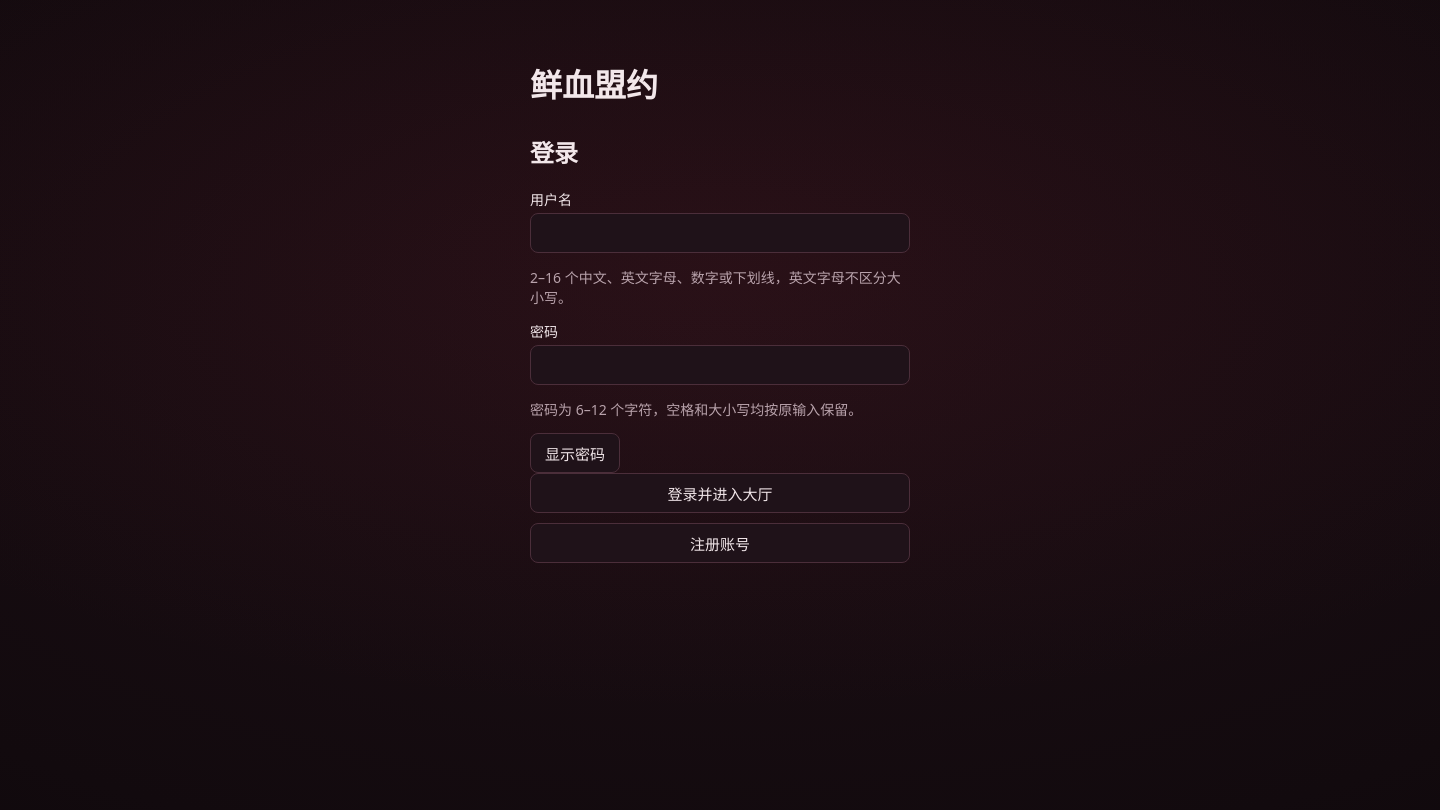
Scenario: 登录表单支持自动填充和显隐，切换注册再返回登录清除密码且不带入身份
The image size is (1440, 810).
Check: the heading "登录" is shown, box [530,141,578,167]
Type "Alice" into the field labelled "用户名" at (720, 233), box [530,213,910,253]
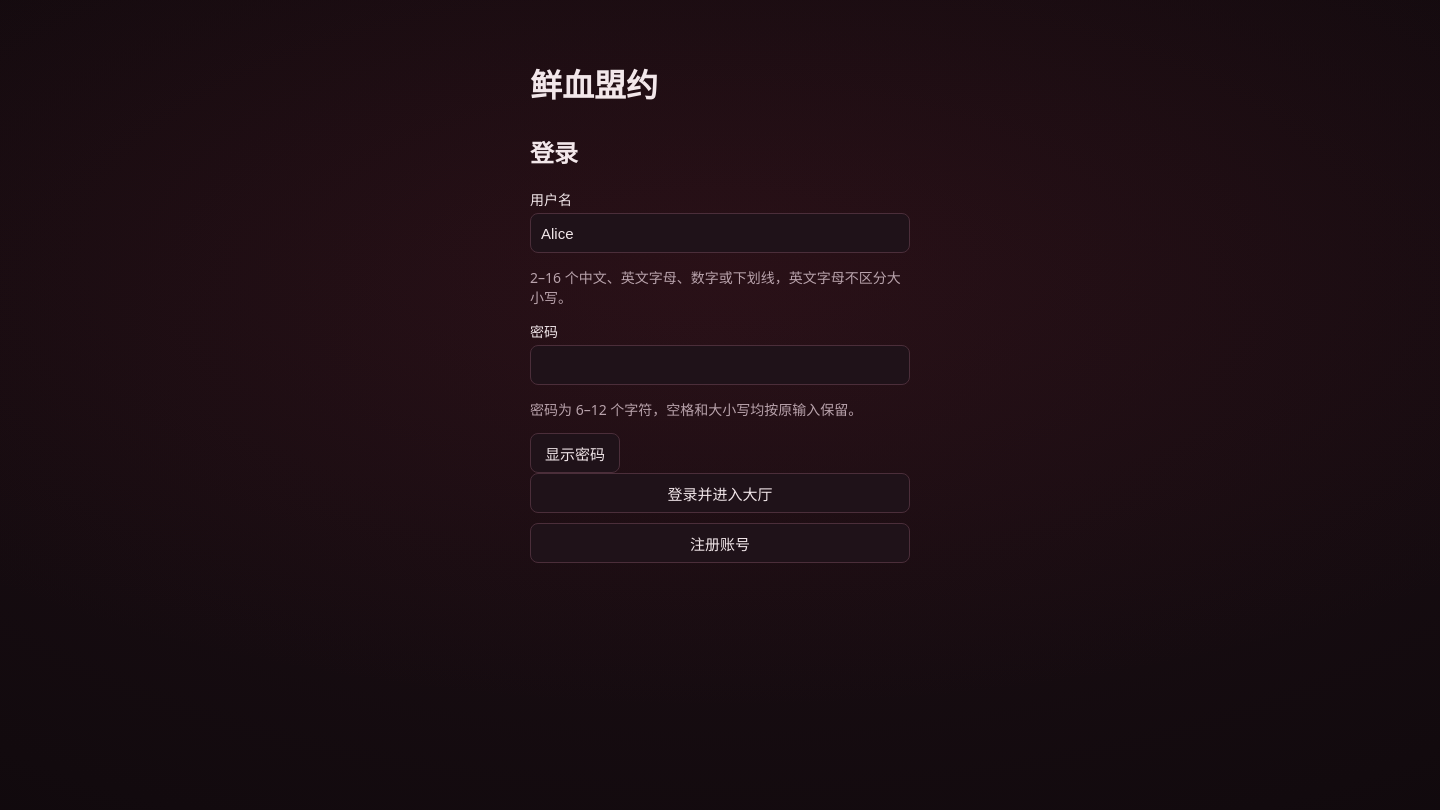
Type " Ab12 " into the password field labelled "密码" at (720, 365), box [530,345,910,385]
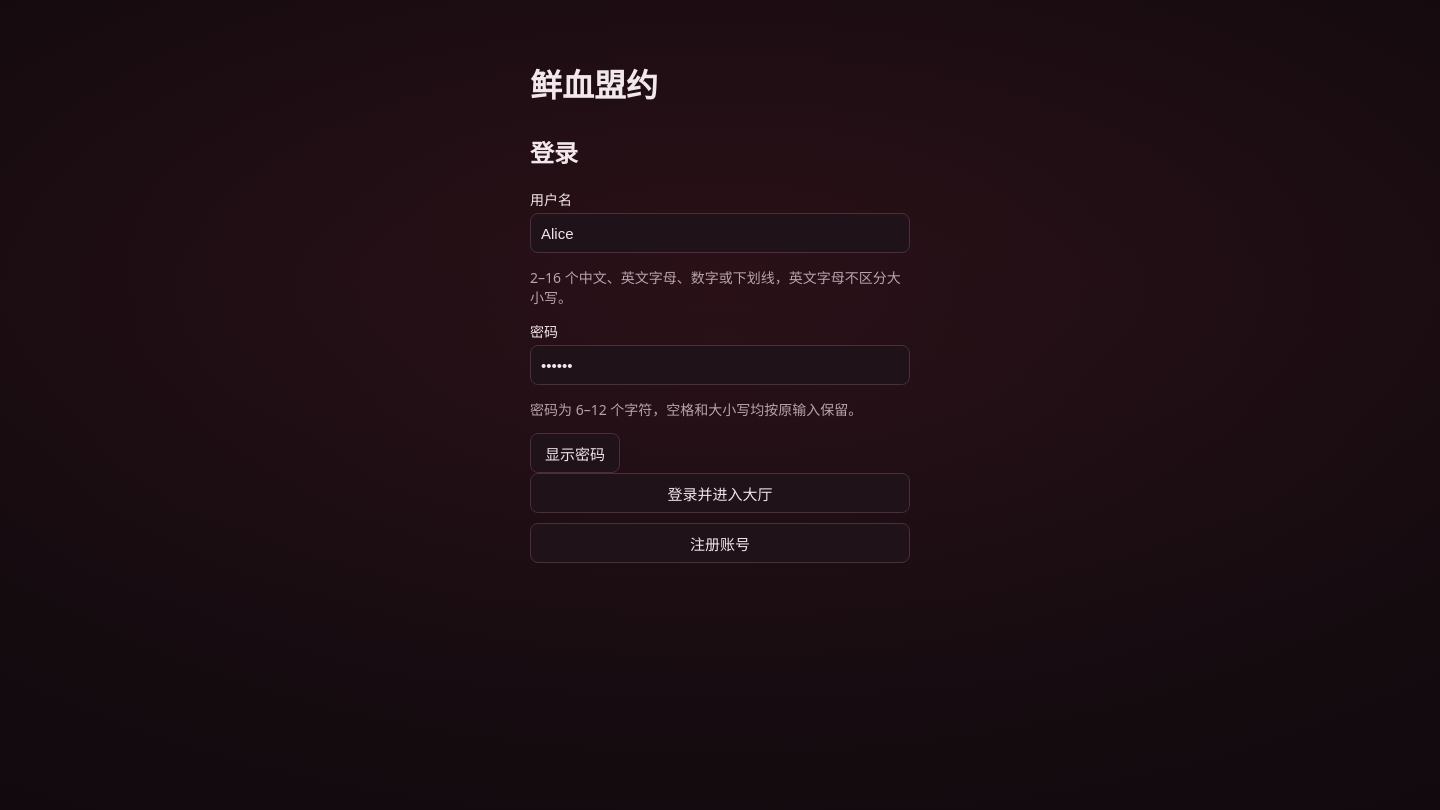
Click the button "显示密码" at (575, 453), box [530,433,620,473]
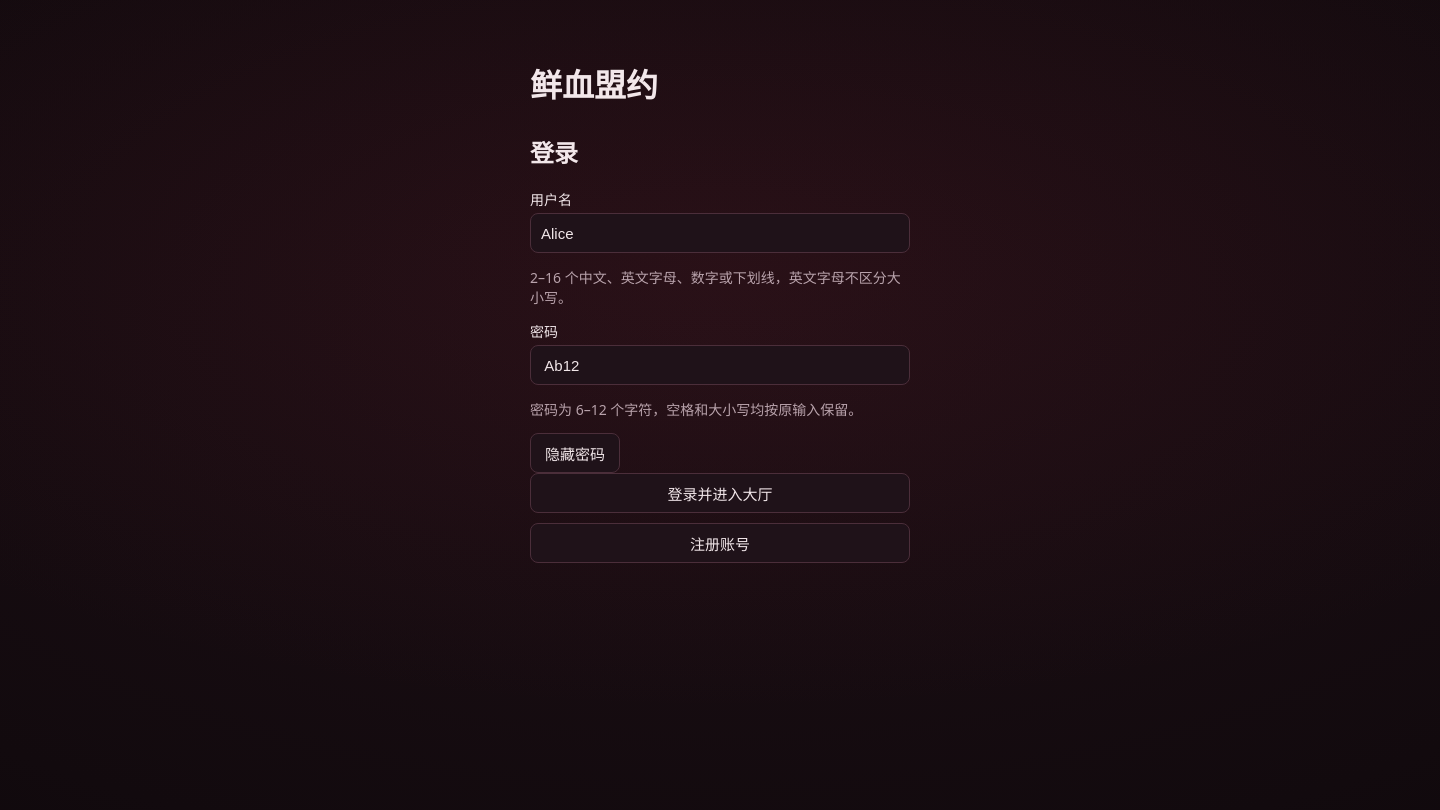
Check: the field labelled "密码" shows its text, box [530,345,910,385]
Click the button "注册账号" at (720, 543), box [530,523,910,563]
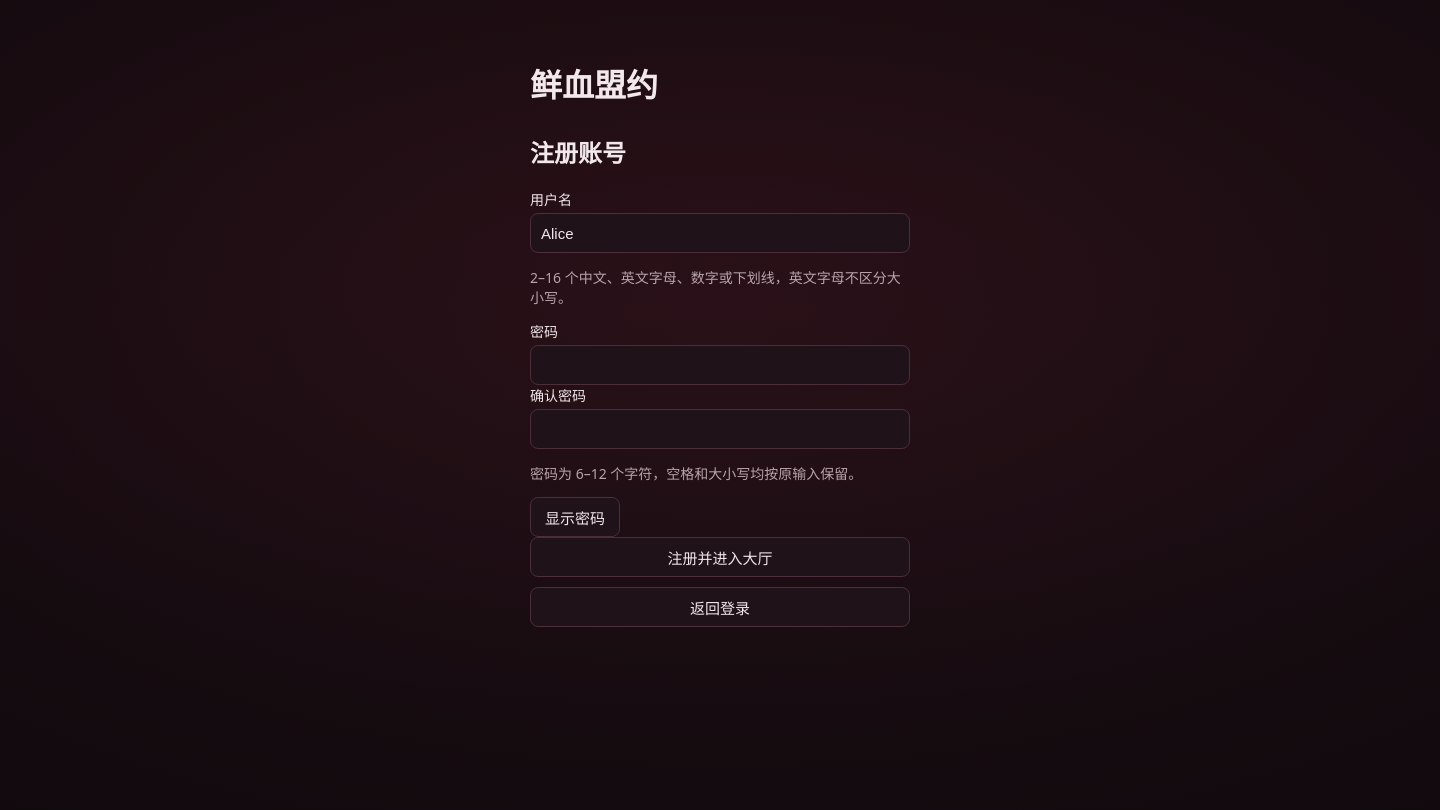
Check: the password field labelled "密码" is empty, box [530,345,910,385]
Type "other!" into the password field labelled "确认密码" at (720, 429), box [530,409,910,449]
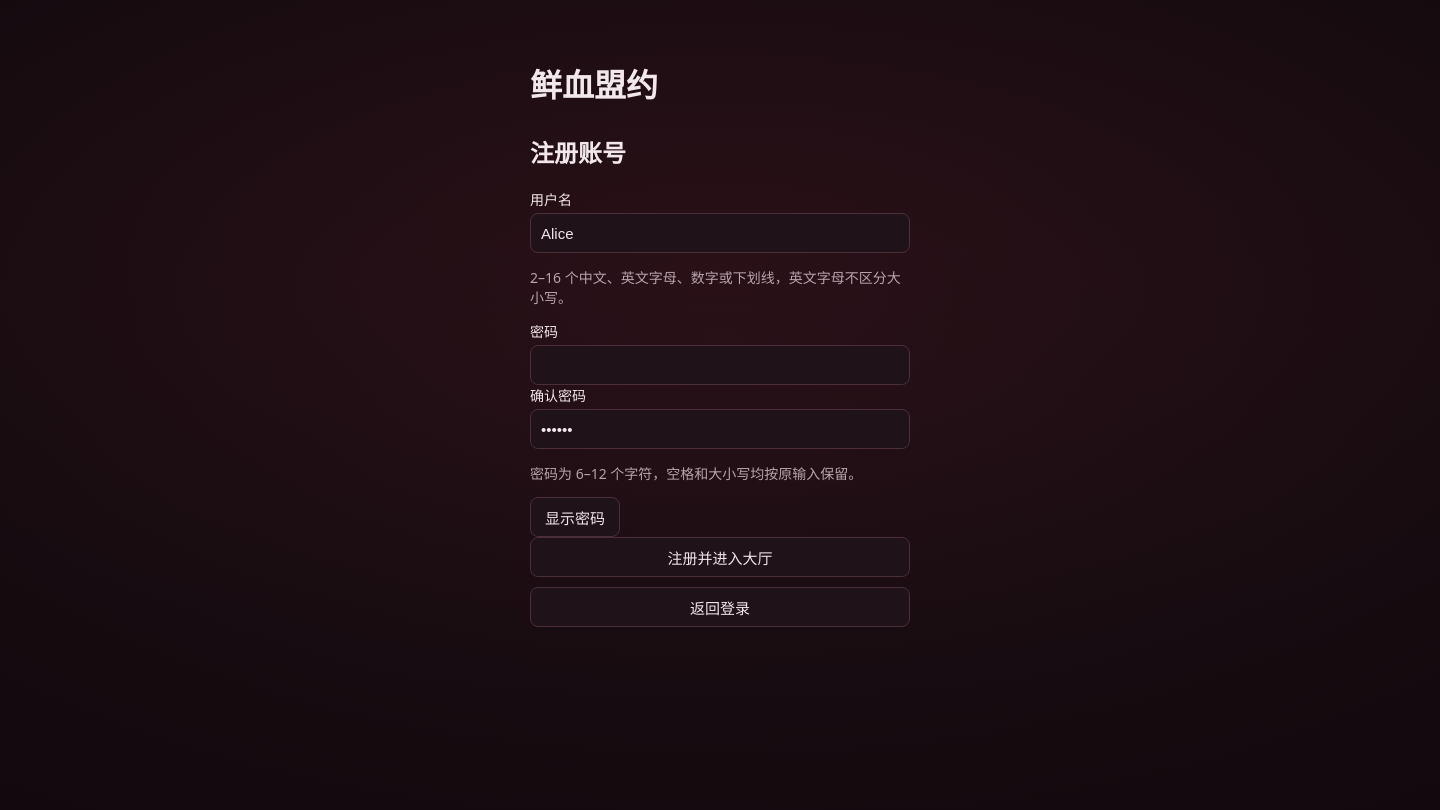
Click the button "返回登录" at (720, 607), box [530,587,910,627]
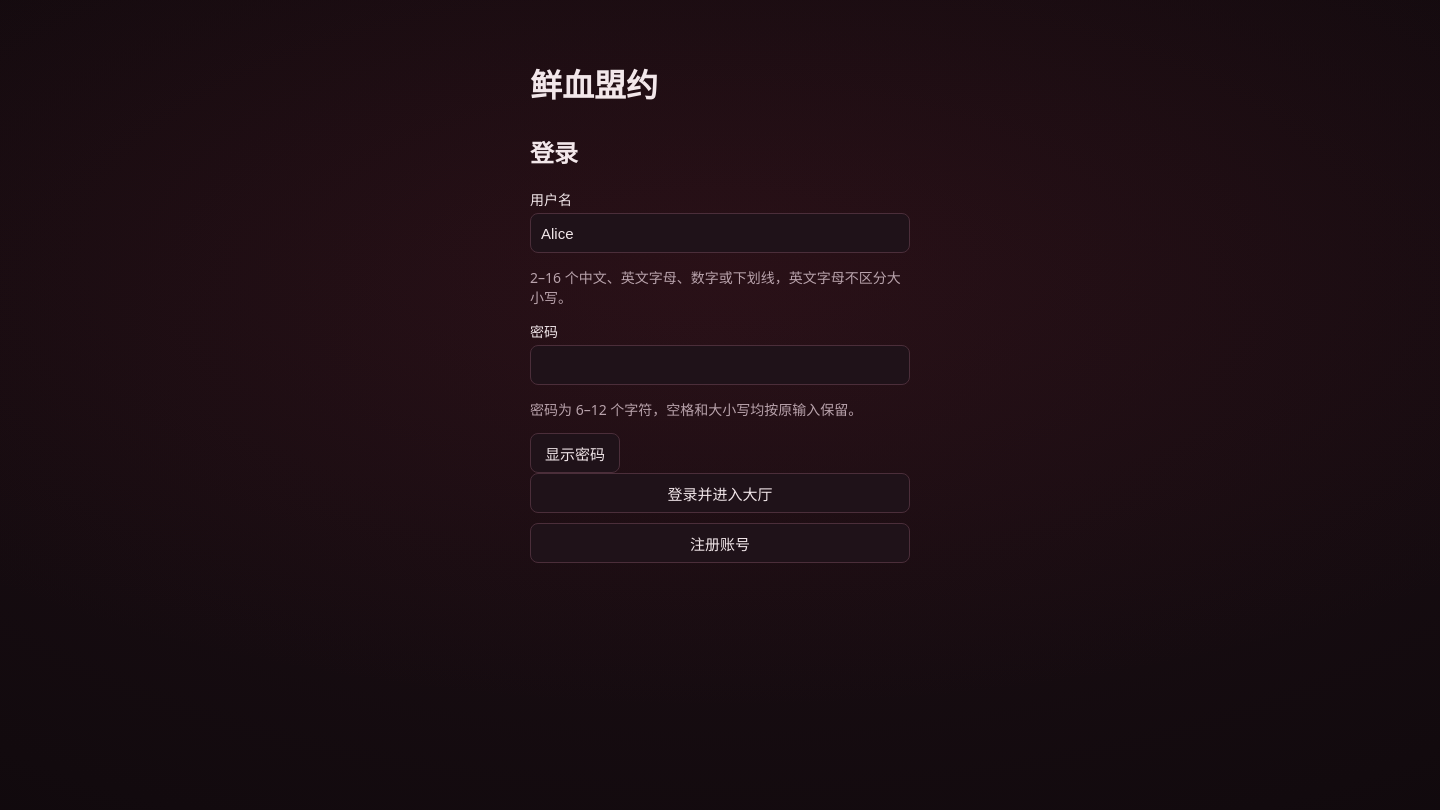
Check: the password field labelled "密码" is empty, box [530,345,910,385]
Check: the label labelled "确认密码" is gone
